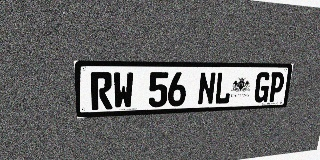5: (149, 72, 168, 107)
6: (168, 72, 187, 107)
G: (253, 72, 271, 103)
L: (214, 72, 233, 104)
N: (197, 72, 216, 105)
P: (267, 72, 285, 102)
R: (90, 72, 112, 110)
W: (113, 72, 134, 109)
